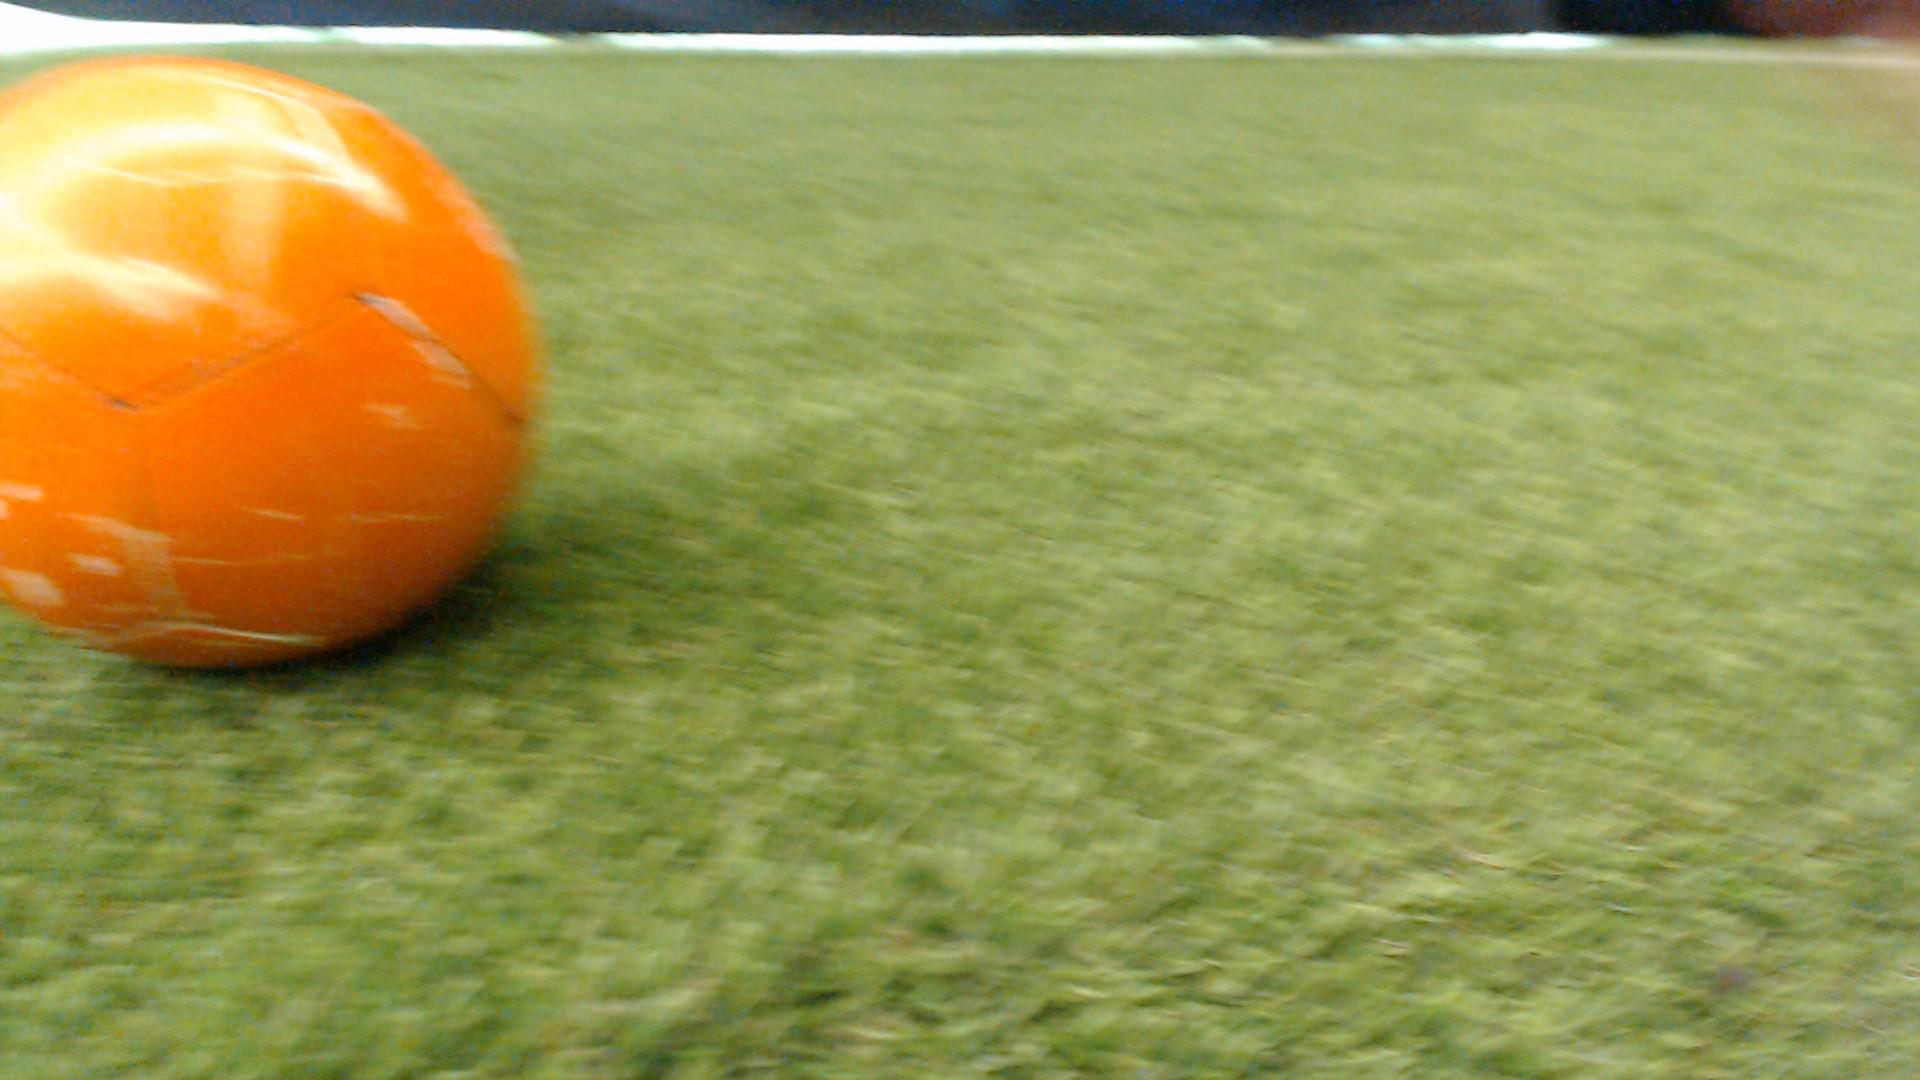bola: (0, 45, 588, 709)
